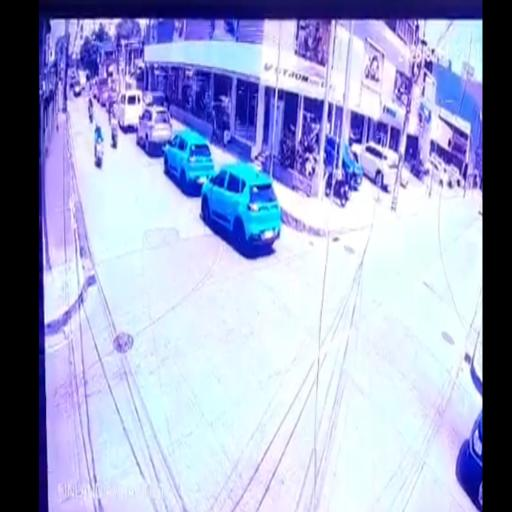Car: (203, 162, 280, 257), (162, 127, 215, 192), (456, 400, 483, 512), (322, 136, 364, 191), (358, 142, 404, 190), (136, 104, 174, 154), (426, 154, 461, 188), (115, 90, 143, 131), (73, 82, 83, 96)
Motor: (324, 156, 348, 208), (412, 153, 426, 181), (94, 134, 104, 168), (110, 123, 118, 148), (106, 96, 115, 116), (88, 104, 93, 124)
